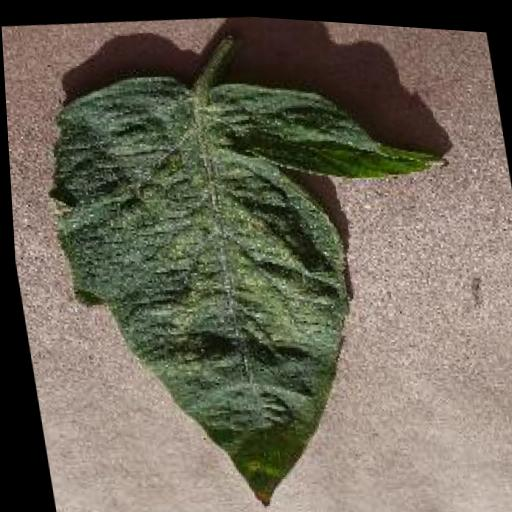Spider Mites: (26, 36, 499, 512)
